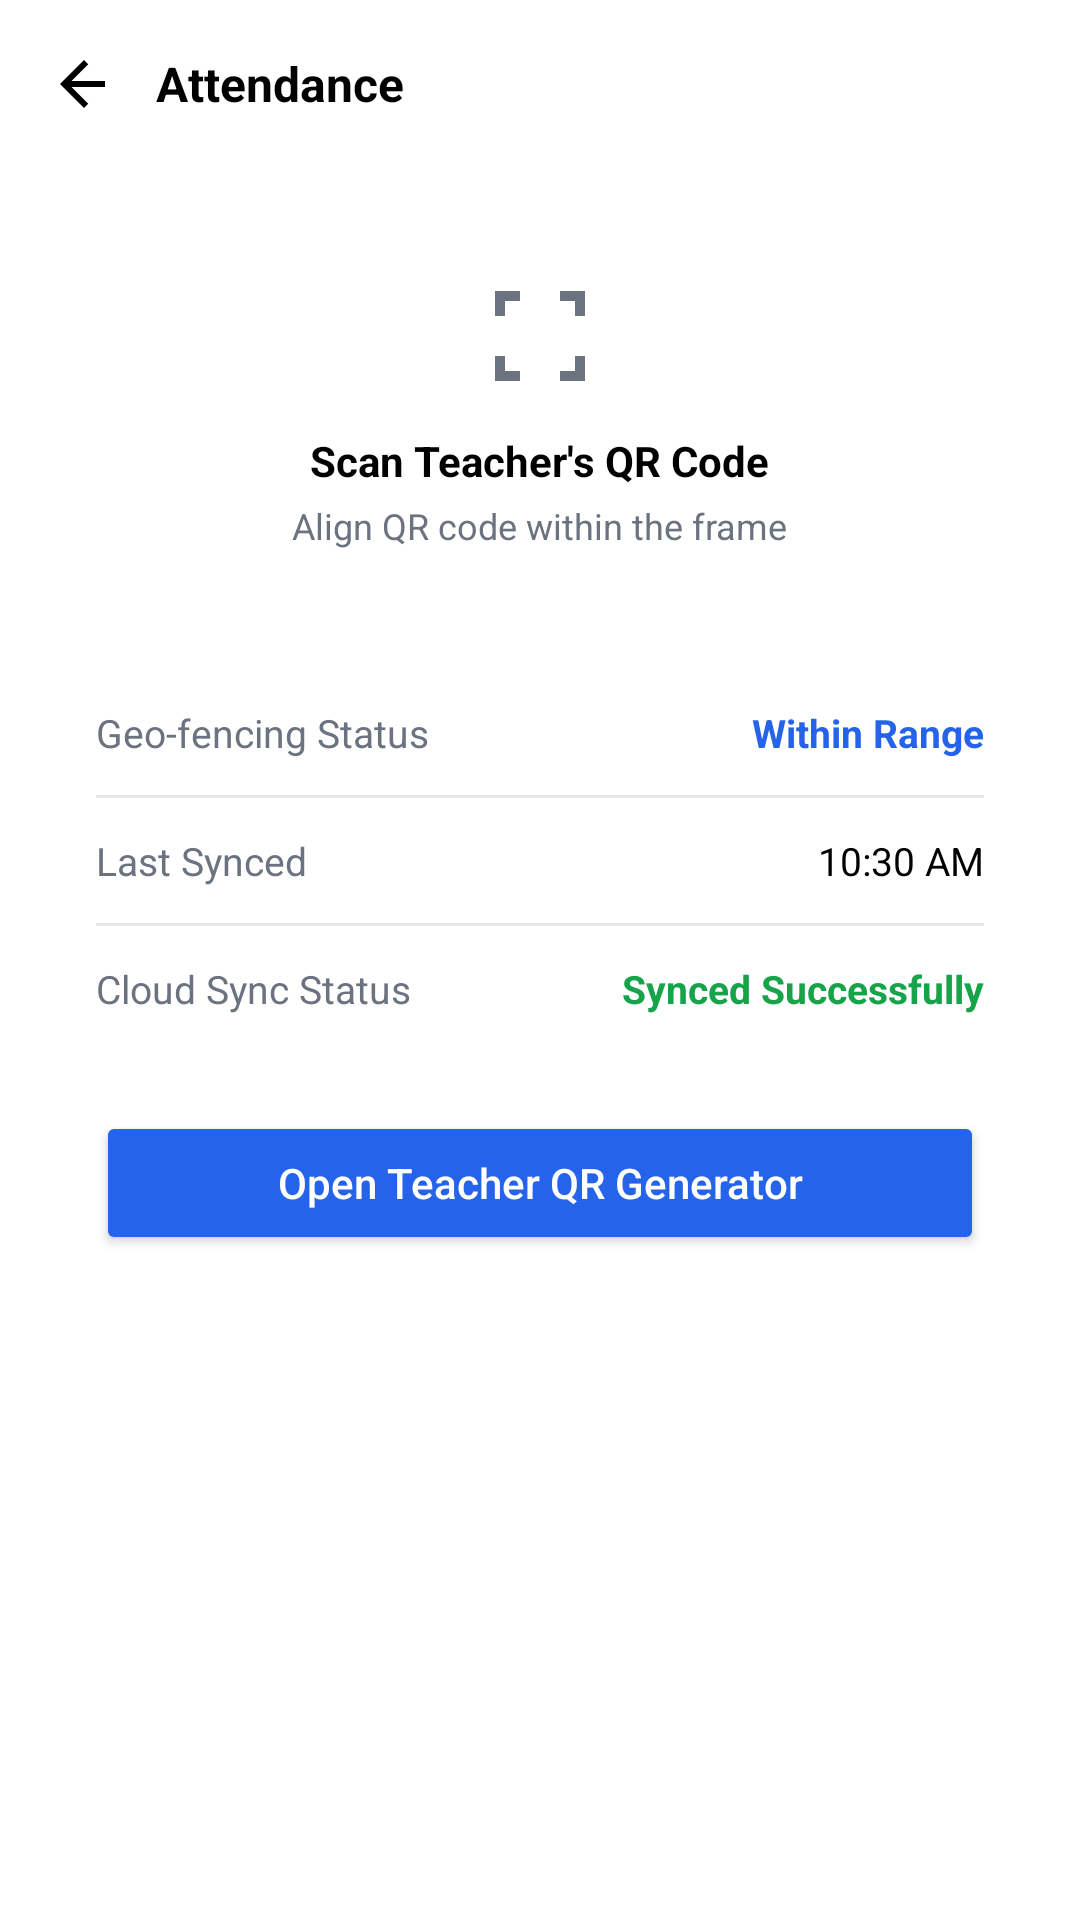

Icons on this 1080 x 1920 Android screen, each with the point to tap as point (x, y):
back: point (82, 84)
